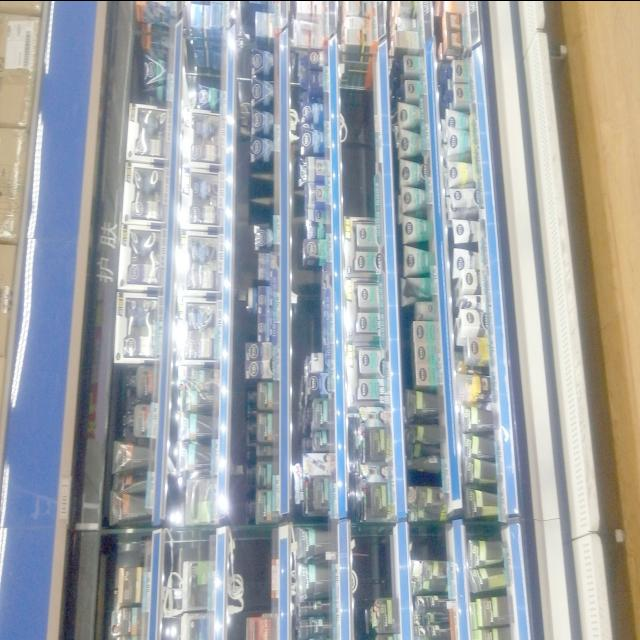empty_space: (349, 86, 371, 206), (244, 534, 270, 603), (362, 532, 390, 592), (247, 166, 269, 217), (414, 528, 446, 554)
